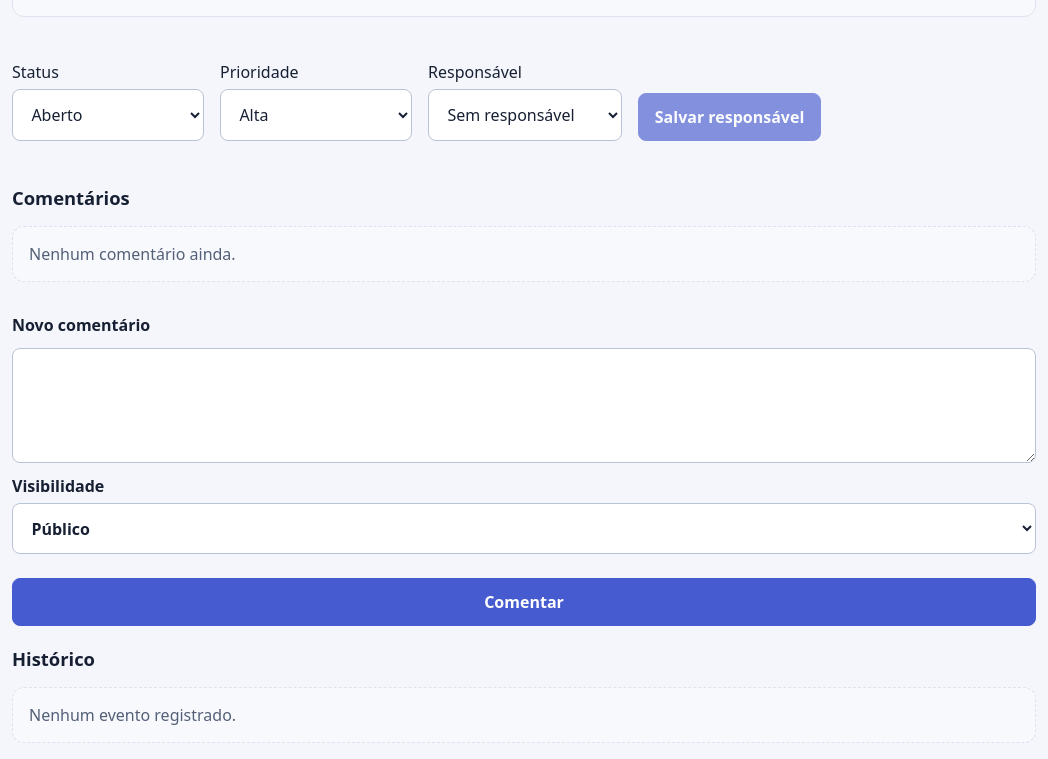
TicketDetailPage: integracao do detalhe › publica o comentario e mostra toast de sucesso
The image size is (1048, 759).
(page scrolled)
Type "Ja verificamos o cabo de rede." into the text box labelled "Novo comentário". click: (524, 405)
box: [12,348,1036,463]
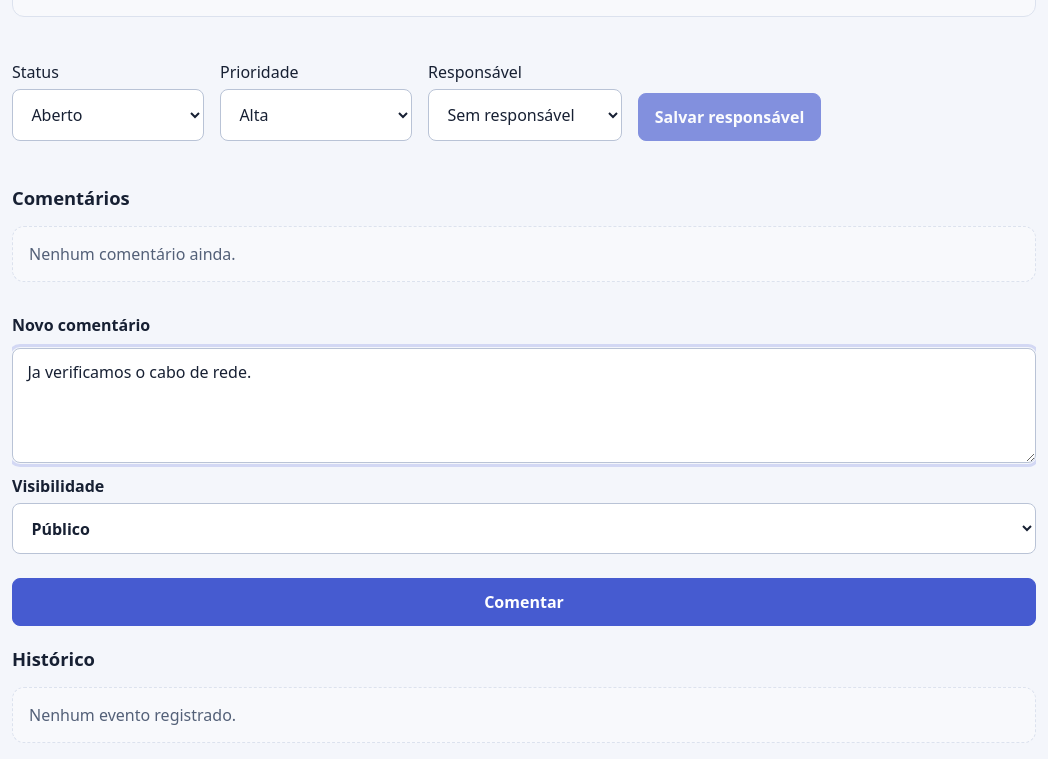
Click the button "Comentar". click: (524, 602)
box: [12,578,1036,626]
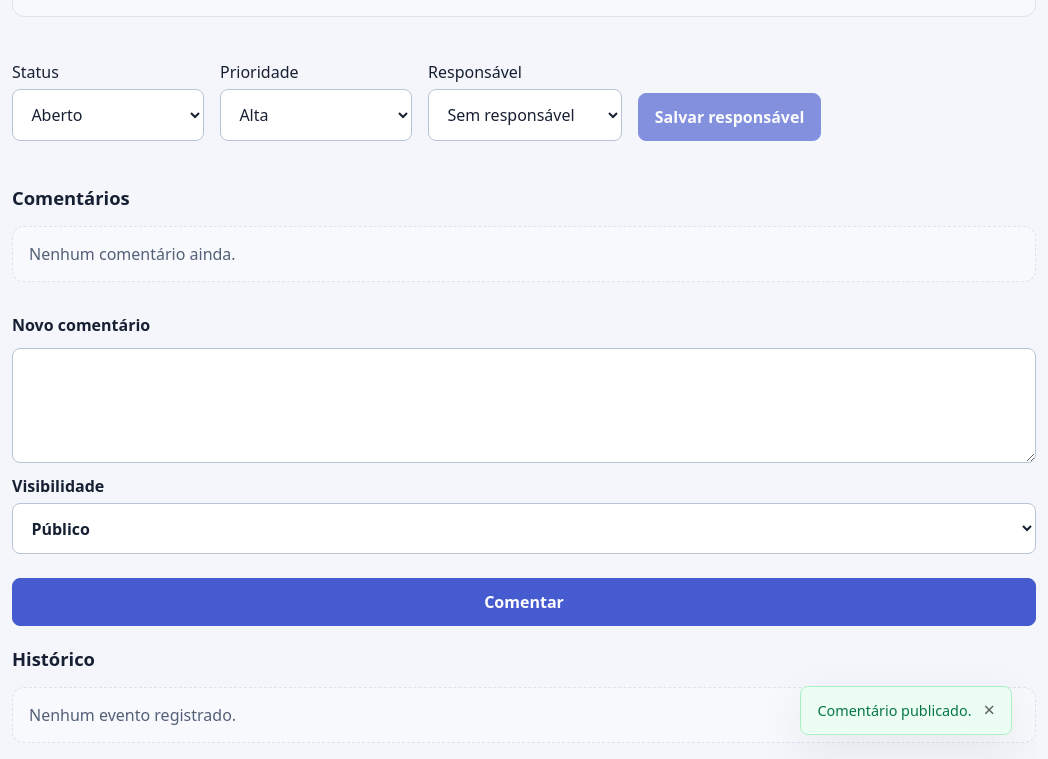
Result: the text "Comentário publicado." is shown at [818,701,972,720]
Result: the text box labelled "Novo comentário" is empty at [12,348,1036,463]
